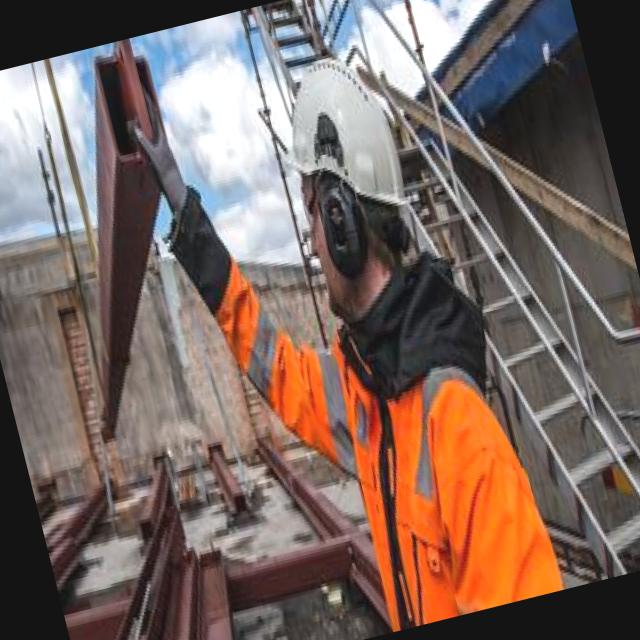helmet: (258, 44, 422, 239)
vest: (309, 328, 550, 636)
